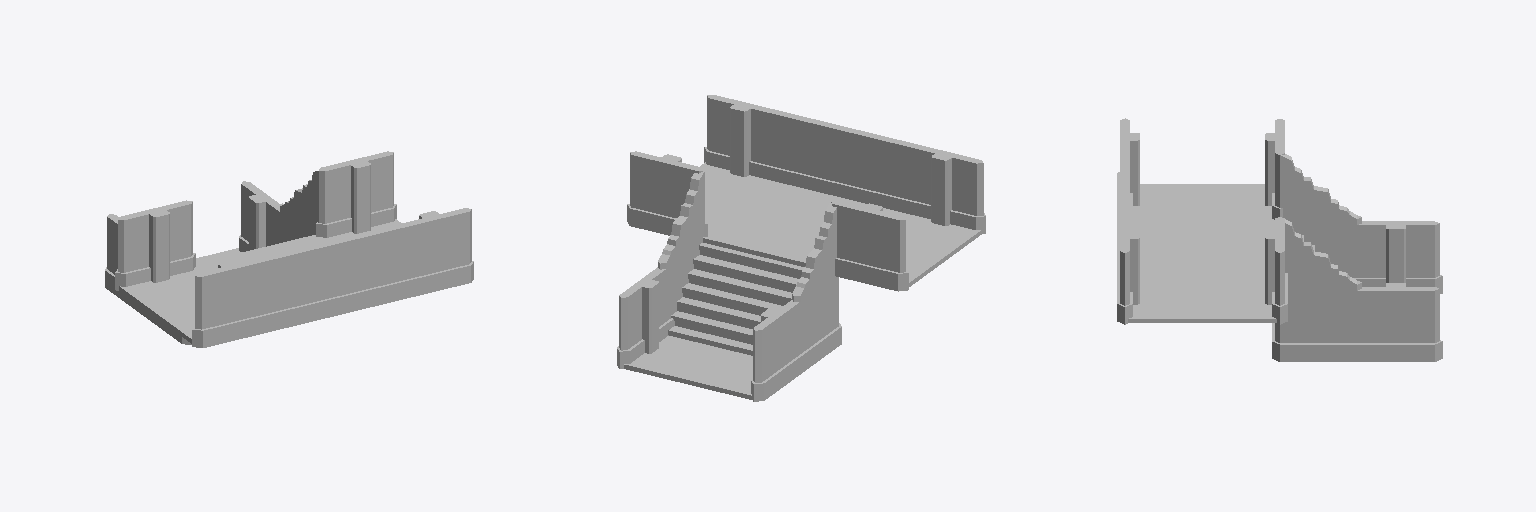
Rendered from intersection_3way_stair_03.obj.
The picture shows the model from 3 angles: view 1: azimuth 30°, elevation 25°; view 2: azimuth 150°, elevation 25°; view 3: azimuth 270°, elevation 25°; orthographic projection.
Visible parts, largest first — view 1: wall_02_55, wall_02_52, wall_02_54, wall_02_51, wall_01_56, wall_01_57, floor_04_49, stairs_01_45, wall_02_53, floor_01_47, wall_02_50; view 2: stairs_01_45, floor_01_47, wall_02_52, wall_02_55, wall_02_54, wall_01_56, wall_01_57, floor_04_44, wall_02_51, wall_02_50, wall_02_53, floor_04_49 (+1 smaller); view 3: stairs_01_45, floor_01_47, wall_02_53, wall_02_50, floor_04_48, floor_04_49, wall_02_54, wall_02_51, wall_02_52, wall_02_55.
Part boxes in pixels (x1,y1,x2,y2): wall_02_55: (192, 257, 270, 347); wall_02_52: (115, 200, 195, 290); wall_02_54: (397, 208, 473, 298); wall_02_51: (316, 151, 396, 237); wall_01_56: (329, 225, 403, 315); wall_01_57: (262, 241, 336, 331); floor_04_49: (119, 268, 200, 343); stairs_01_45: (143, 169, 326, 344); wall_02_53: (239, 181, 280, 251); floor_01_47: (195, 235, 334, 271); wall_02_50: (105, 214, 142, 314); stairs_01_45: (658, 168, 841, 371); floor_01_47: (703, 180, 911, 266); wall_02_52: (831, 201, 908, 291); wall_02_55: (909, 144, 985, 233); wall_02_54: (704, 95, 781, 180); wall_01_56: (774, 111, 848, 196); wall_01_57: (841, 128, 916, 213); floor_04_44: (624, 336, 752, 399); wall_02_51: (627, 151, 707, 236); wall_02_50: (751, 300, 802, 401); wall_02_53: (617, 267, 668, 368); floor_04_49: (903, 214, 981, 286); stairs_01_45: (1272, 151, 1361, 361); floor_01_47: (1133, 217, 1274, 285); wall_02_53: (1355, 283, 1442, 361); wall_02_50: (1357, 221, 1442, 293); floor_04_48: (1128, 285, 1276, 322); floor_04_49: (1133, 184, 1274, 220); wall_02_54: (1117, 217, 1139, 324); wall_02_51: (1265, 217, 1287, 324); wall_02_52: (1265, 119, 1284, 219); wall_02_55: (1117, 118, 1139, 206).
Size of the model in its own units: 4.21 by 2 by 4.21.